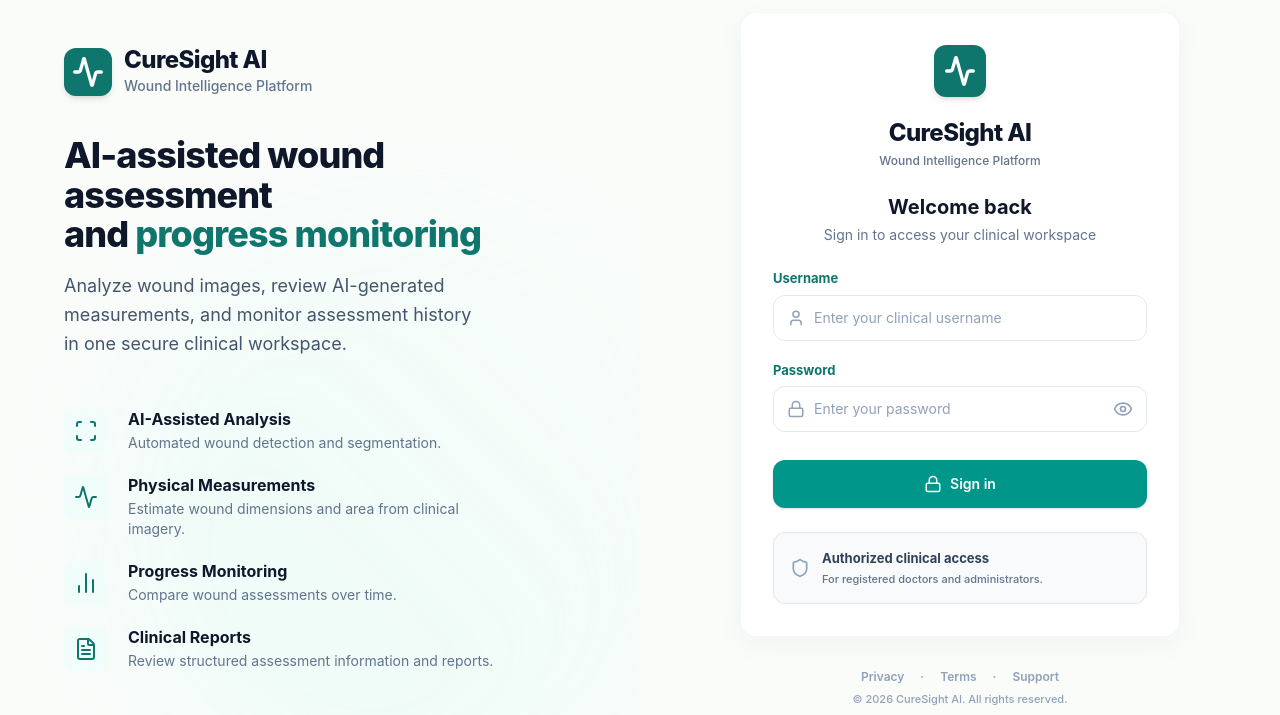
Test: Login Flow & Error Handling › 5. Correctly handles HTTP 429 Too Many Requests
This screenshot has width=1280, height=715.
Type "user" into the field with placeholder "Enter your clinical username" at coordinates (960, 318), box [773,295,1147,341]
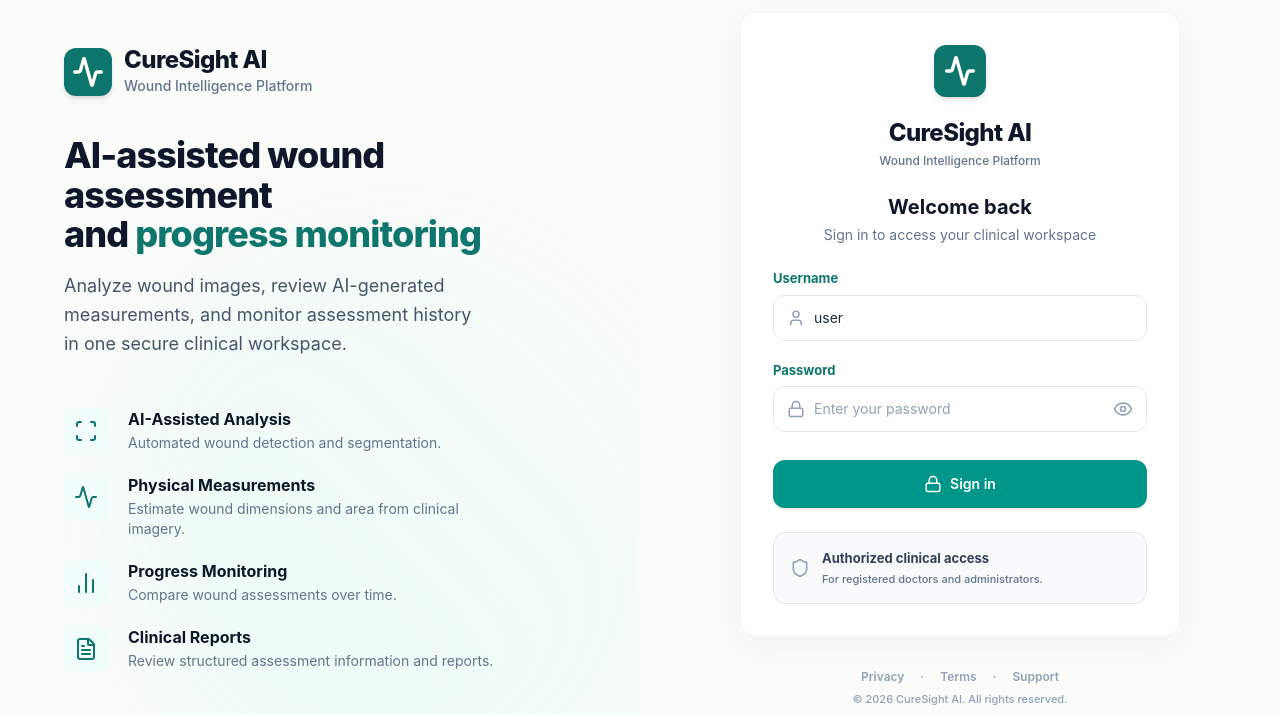
Type "pass" into the password field with placeholder "Enter your password" at coordinates (960, 409), box [773,386,1147,432]
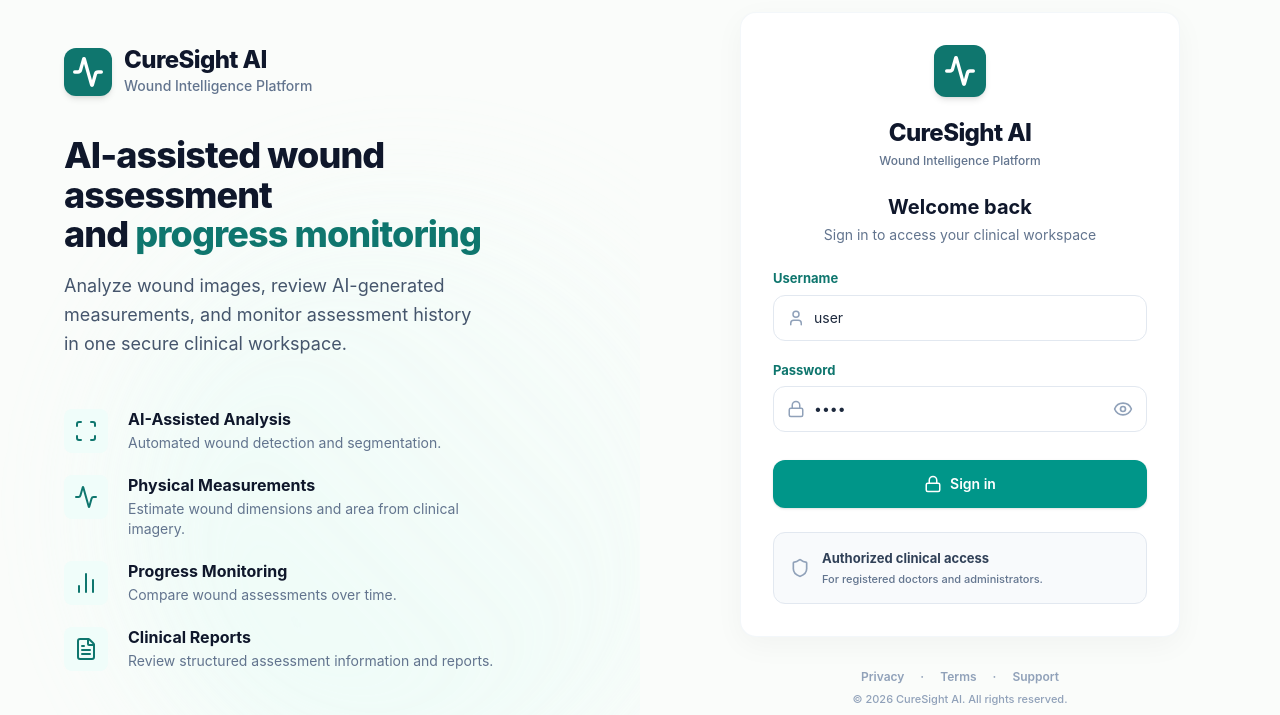
Click the button "Sign in" at coordinates (960, 484), box [773,460,1147,508]
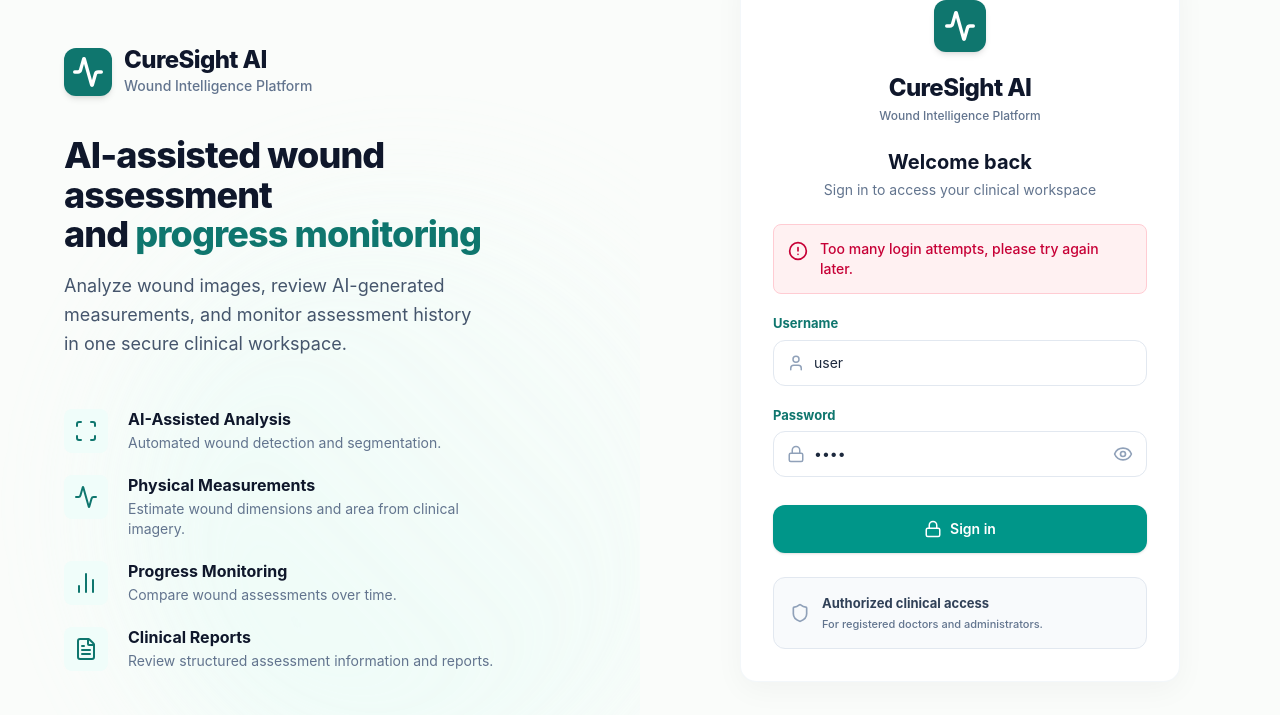
Check: the text "Too many login attempts, please try again later." is shown, box [820,239,1132,279]
